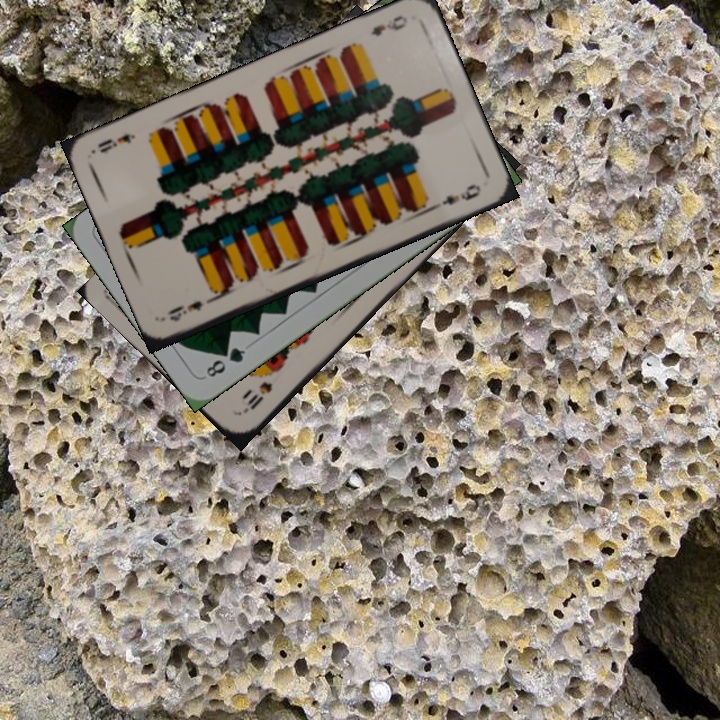E9: (163, 292, 218, 324), (367, 11, 410, 39)
G8: (201, 343, 249, 380)
S10: (238, 377, 275, 417)
